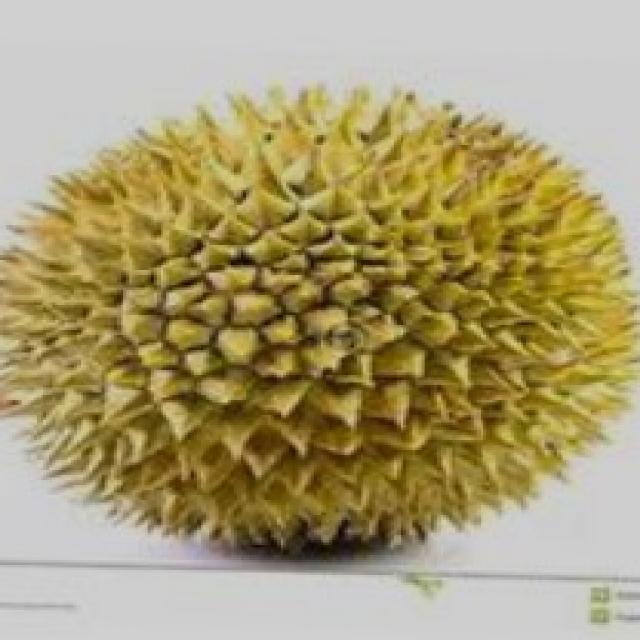fruit: (271, 203, 640, 595), (0, 215, 351, 585)
